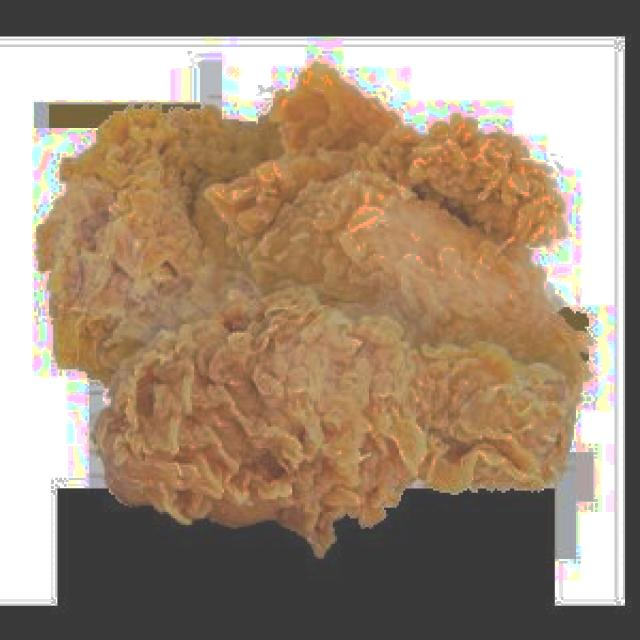fried_chicken: (32, 64, 595, 561)
